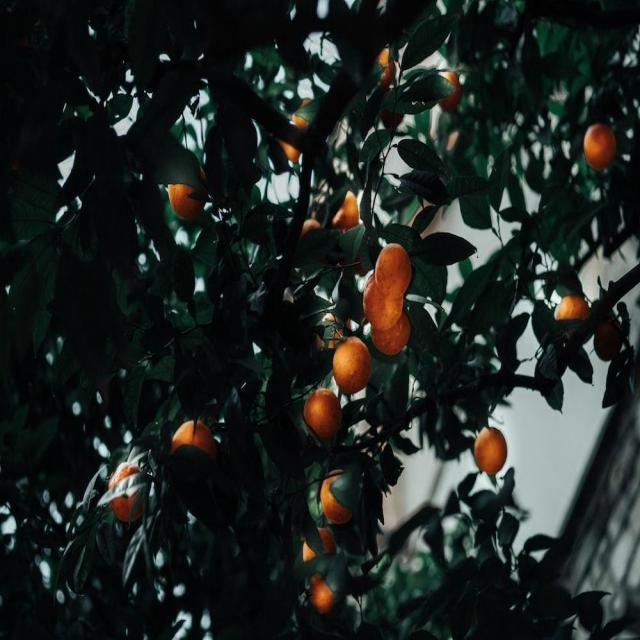Jeruk Sudah Matang: (106, 461, 150, 524), (363, 270, 405, 332), (321, 466, 362, 525), (307, 552, 346, 614), (371, 296, 410, 356), (168, 159, 208, 217), (332, 336, 372, 394), (170, 421, 218, 466), (302, 388, 343, 439), (376, 244, 412, 298), (584, 117, 618, 167), (473, 427, 508, 473), (303, 524, 337, 564), (554, 294, 593, 328), (331, 191, 361, 232), (374, 44, 397, 86), (290, 95, 316, 126), (278, 138, 304, 163), (445, 67, 464, 89)
